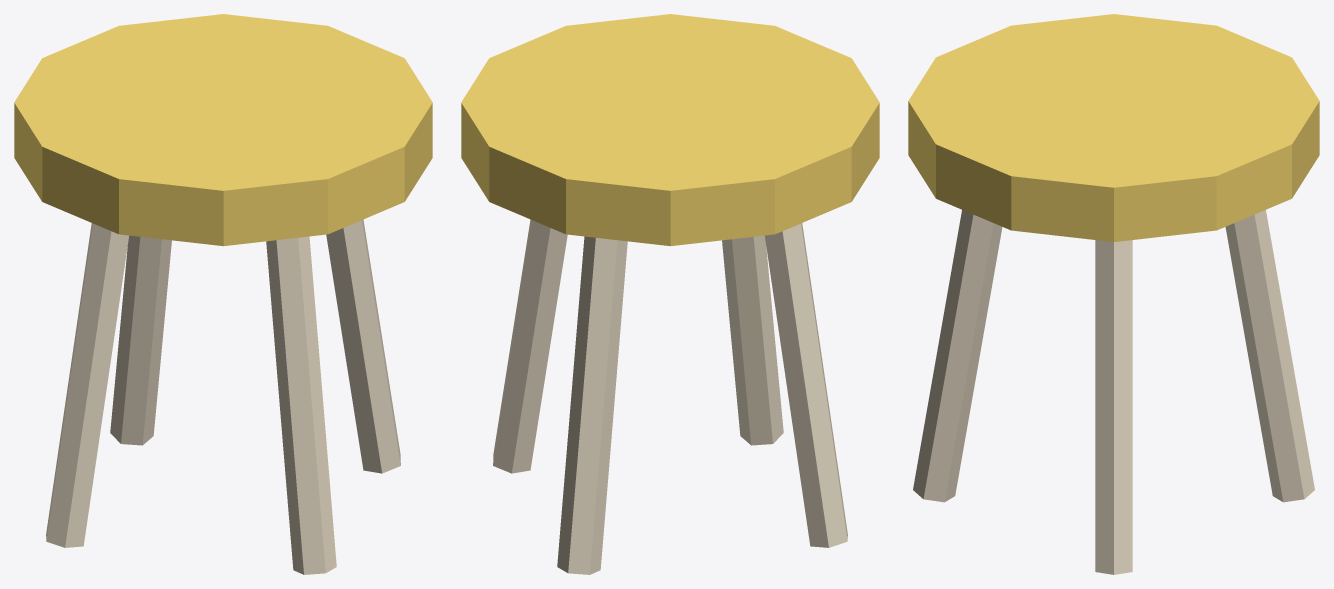
3 views of the same model, side by side, from view 1: azimuth 30°, elevation 25°; view 2: azimuth 150°, elevation 25°; view 3: azimuth 270°, elevation 25° (orthographic).
Parts seen in each view (by area): view 1: Seat, Leg.003, Leg.002, Leg, Leg.001; view 2: Seat, Leg.001, Leg.002, Leg, Leg.003; view 3: Seat, Leg, Leg.001, Leg.003.
Boxes of the visible parts, left/top/right/bottom form: Seat: left=14, top=14, right=432, bottom=246; Leg.003: left=266, top=236, right=336, bottom=574; Leg.002: left=46, top=223, right=128, bottom=547; Leg: left=326, top=219, right=400, bottom=473; Leg.001: left=110, top=235, right=171, bottom=445; Seat: left=461, top=14, right=879, bottom=246; Leg.001: left=557, top=236, right=627, bottom=574; Leg.002: left=765, top=223, right=847, bottom=547; Leg: left=493, top=219, right=567, bottom=473; Leg.003: left=722, top=235, right=783, bottom=445; Seat: left=908, top=14, right=1319, bottom=241; Leg: left=1095, top=240, right=1132, bottom=574; Leg.001: left=1225, top=210, right=1314, bottom=502; Leg.003: left=913, top=210, right=1002, bottom=502.
Bounding box in the file's own units: 0.48 × 0.5089 × 0.48.
1 material, 1 textured.
